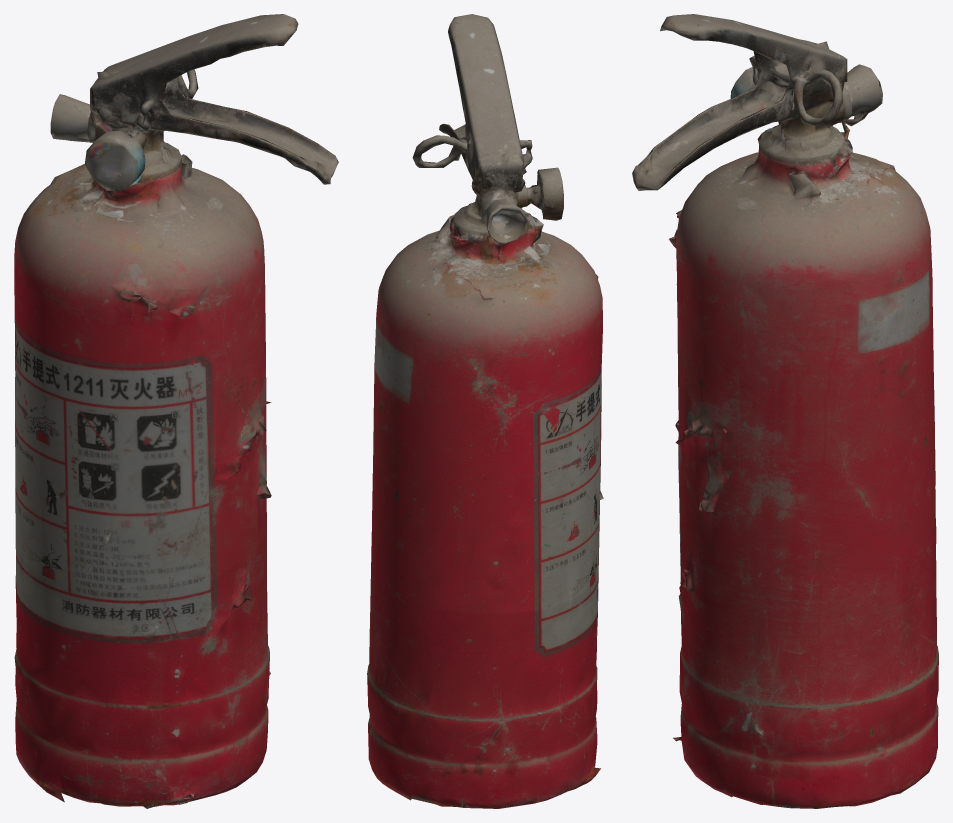
Rendered from PX_Fire_Extinguisher_01_LOD4.fbx.
3 renders of one model, left to right at view 1: azimuth 30°, elevation 25°; view 2: azimuth 150°, elevation 25°; view 3: azimuth 270°, elevation 25°, orthographic. The views are drawn at different scales.
Parts seen in each view (by area): view 1: PX_Fire_Extinguisher_01_LOD4; view 2: PX_Fire_Extinguisher_01_LOD4; view 3: PX_Fire_Extinguisher_01_LOD4.
Boxes of the visible parts, left/top/right/bottom form: PX_Fire_Extinguisher_01_LOD4: left=14, top=14, right=338, bottom=808; PX_Fire_Extinguisher_01_LOD4: left=367, top=14, right=603, bottom=808; PX_Fire_Extinguisher_01_LOD4: left=632, top=14, right=938, bottom=808.
Size of the model in its own units: 9.14 by 28.26 by 10.09.
